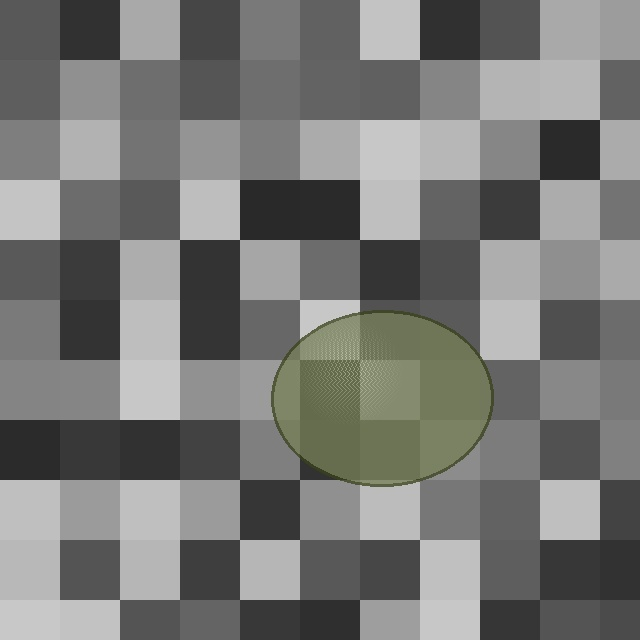lens: (272, 311, 492, 485)
